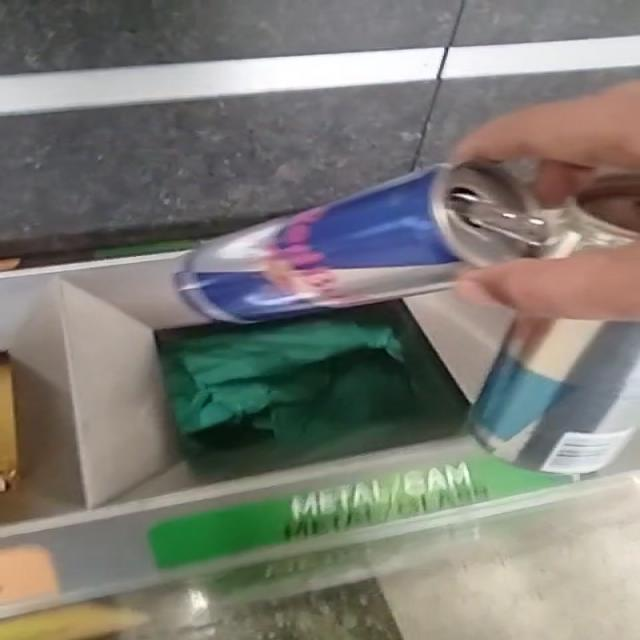bin: (1, 252, 568, 640)
metal: (179, 163, 639, 322)
